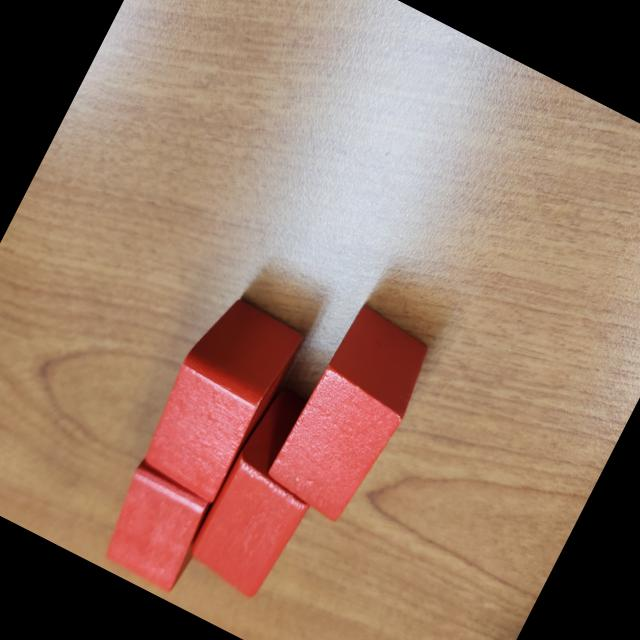red: (262, 300, 442, 530), (129, 288, 309, 511), (178, 384, 352, 610), (90, 454, 225, 599)
